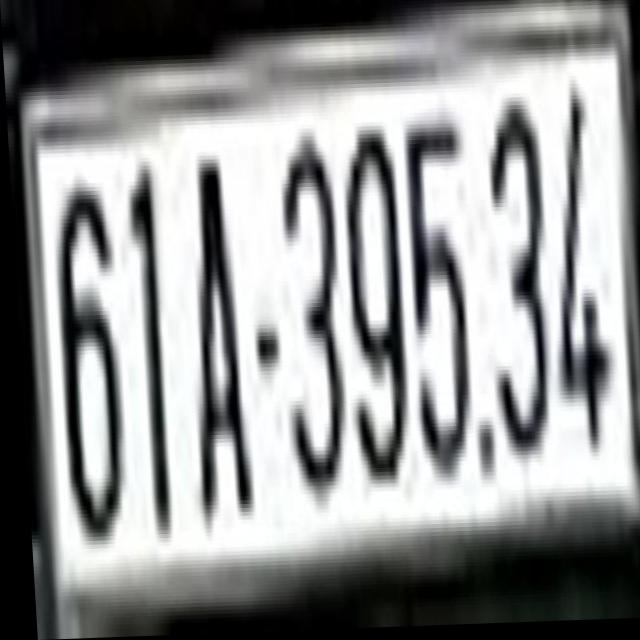1: (119, 155, 169, 540)
3: (270, 115, 349, 516), (476, 82, 548, 463)
4: (538, 83, 615, 458)
5: (398, 115, 473, 474)
6: (44, 164, 123, 546)
9: (333, 116, 410, 526)
A: (174, 148, 249, 542)
